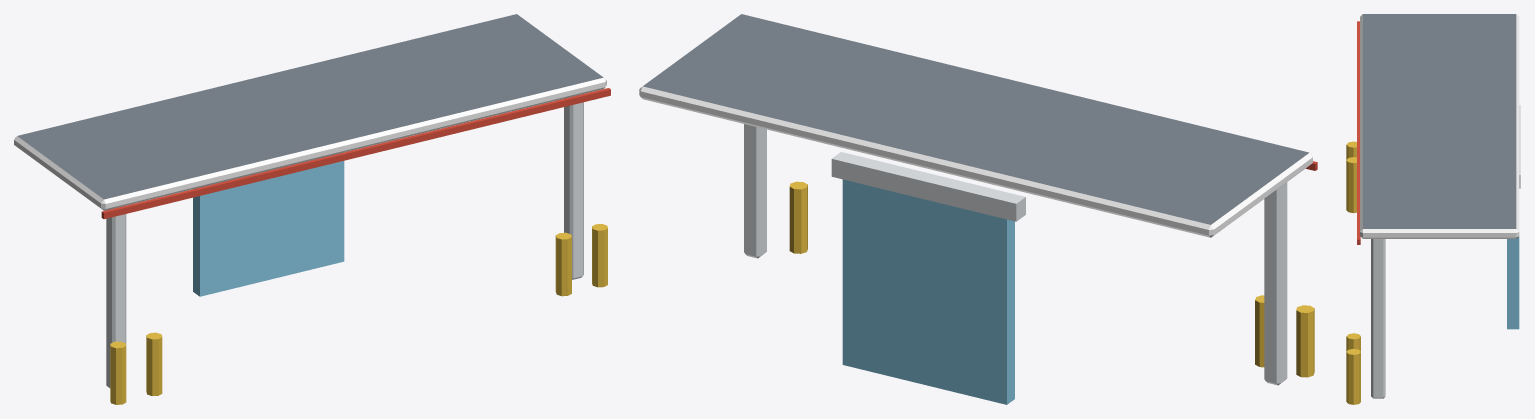
File: amb_canopy.fbx
3 renders of one model, left to right at view 1: azimuth 30°, elevation 25°; view 2: azimuth 150°, elevation 25°; view 3: azimuth 270°, elevation 25°, orthographic. The views are drawn at different scales.
Visible parts, largest first — view 1: amb_canopy; view 2: amb_canopy; view 3: amb_canopy.
Part boxes in pixels (x1,y1,x2,y2): amb_canopy: (14,14,610,404); amb_canopy: (639,14,1317,404); amb_canopy: (1346,14,1520,404).
Size of the model in its own units: 8.42 by 3.18 by 2.84.
